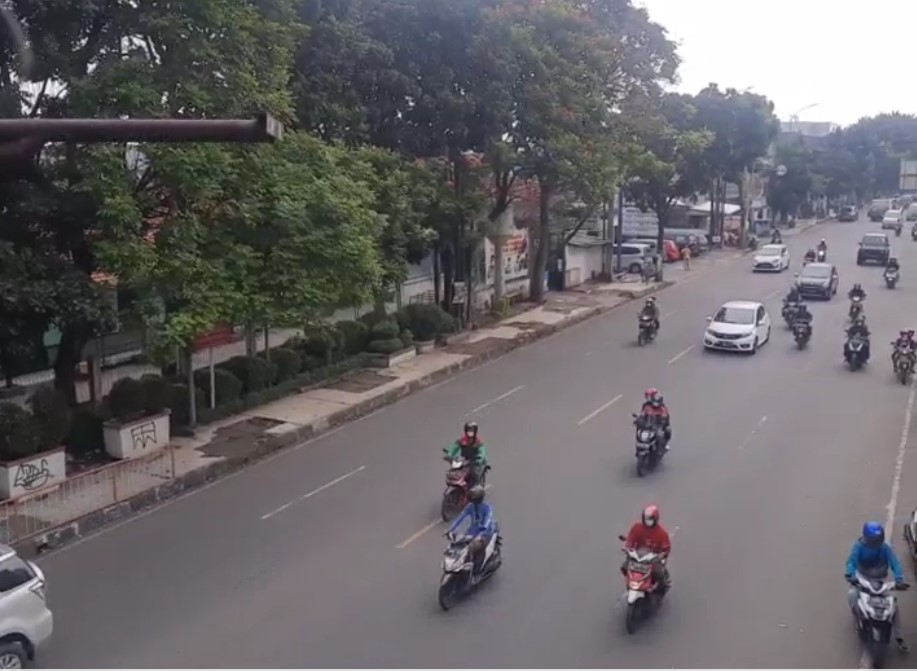motor: (422, 494, 516, 606), (830, 506, 899, 655), (607, 512, 686, 628), (424, 415, 488, 517), (630, 385, 673, 490), (622, 292, 661, 353), (839, 311, 878, 370), (885, 324, 917, 385), (788, 306, 815, 356)
